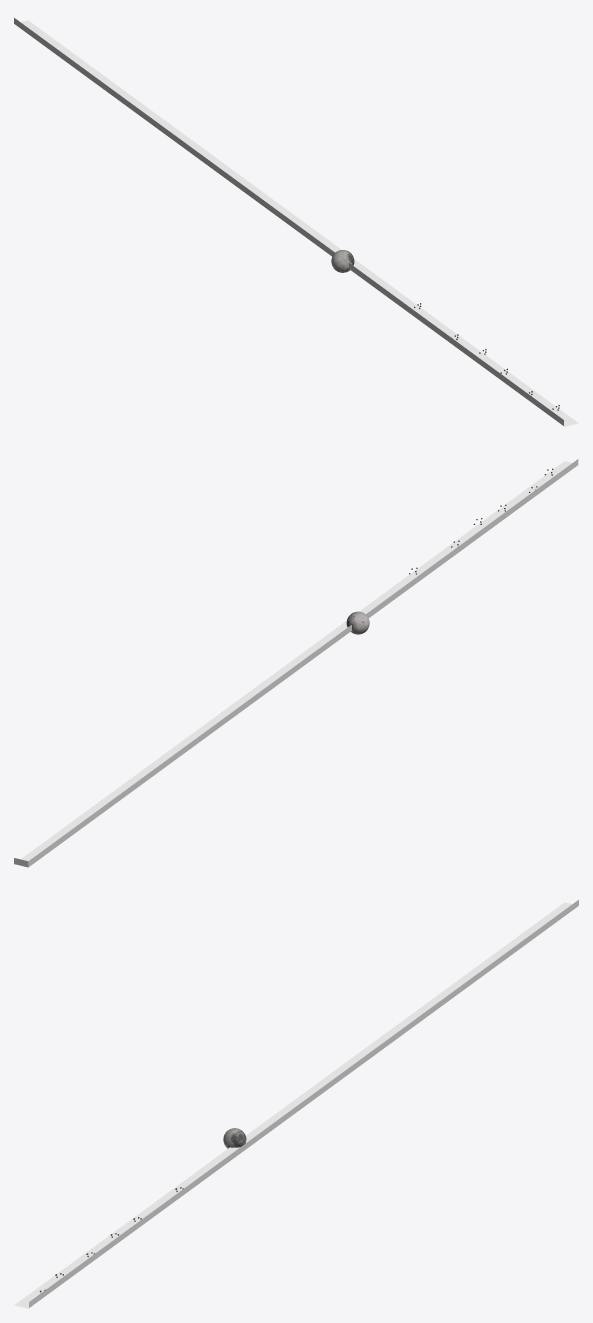
File: Level5.glb
The picture shows the model from 3 angles, top to bottom: view 1: azimuth 30°, elevation 25°; view 2: azimuth 150°, elevation 25°; view 3: azimuth 330°, elevation 25°; orthographic projection.
Visible parts, largest first — view 1: Floor, Walls; view 2: Floor, Walls; view 3: Floor, Walls.
Boxes of the visible parts, x1,y1,x2,y2 form: Floor: (20, 20, 578, 426); Walls: (14, 18, 563, 425); Floor: (18, 461, 578, 867); Walls: (14, 459, 578, 867); Floor: (14, 902, 572, 1308); Walls: (29, 900, 578, 1307).
Size of the model in its own units: 41.57 by 33.53 by 1599.
8 materials, 7 textured.
